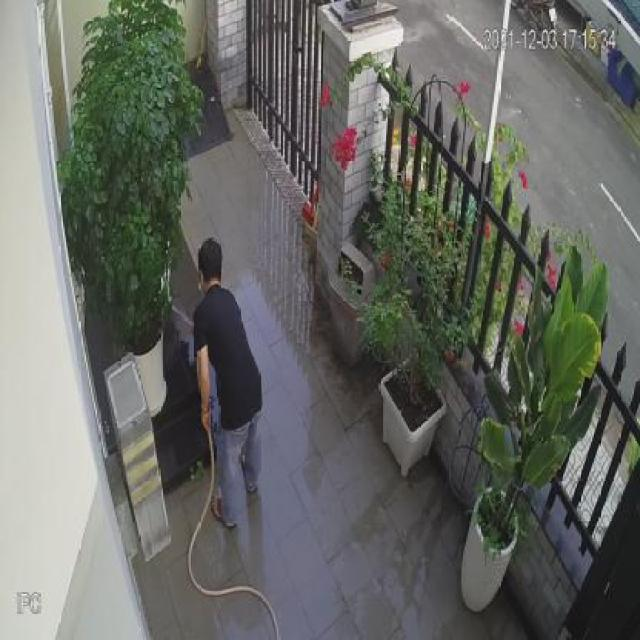obstacle: (192, 237, 265, 529)
